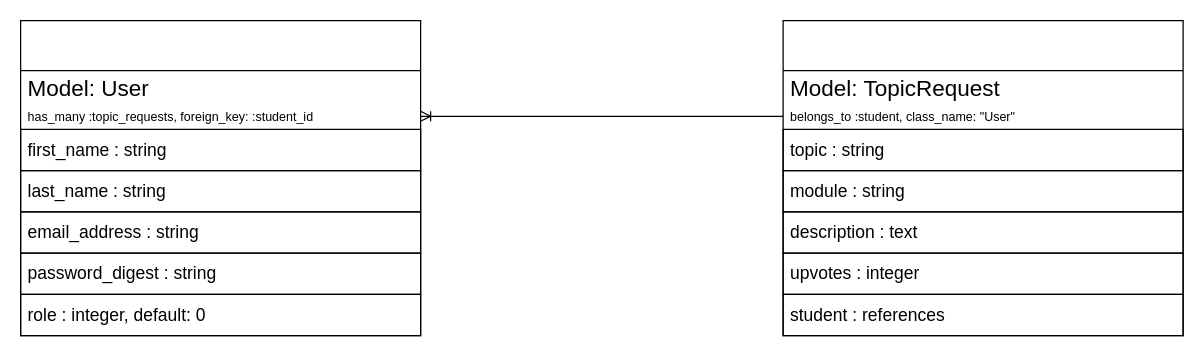
The diagram is 1204 pixels wide and 356 high, and some of its shapes have lost their labels. Here are the shapes that lost their labels. From the top down, the box of each, then its label:
(19, 19, 421, 336): users
(782, 19, 1183, 336): topic_requests
